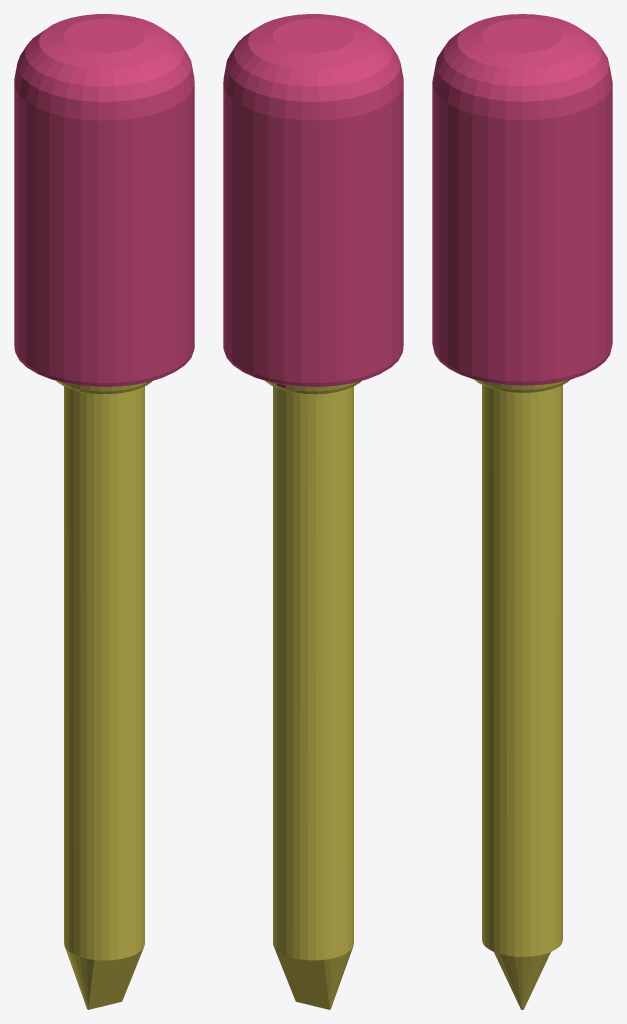
3 renders of one model, left to right at view 1: azimuth 30°, elevation 25°; view 2: azimuth 150°, elevation 25°; view 3: azimuth 270°, elevation 25°, orthographic.
Parts seen in each view (by area): view 1: world; view 2: world; view 3: world.
Boxes of the visible parts, x1,y1,x2,y2 form: world: (14, 14, 194, 1009); world: (223, 14, 403, 1009); world: (432, 14, 612, 1009).
Bounding box in the file's own units: 65.82 × 389 × 65.82.
